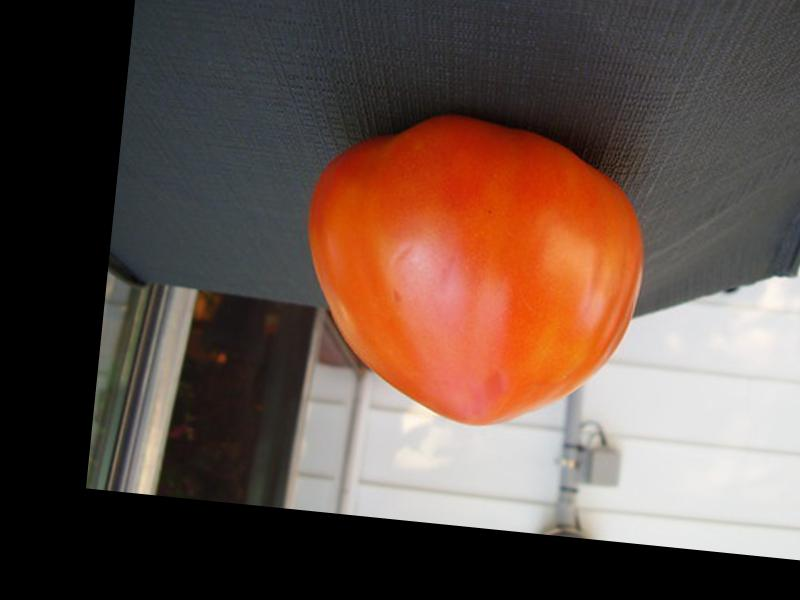Tomato: (289, 104, 655, 442)
